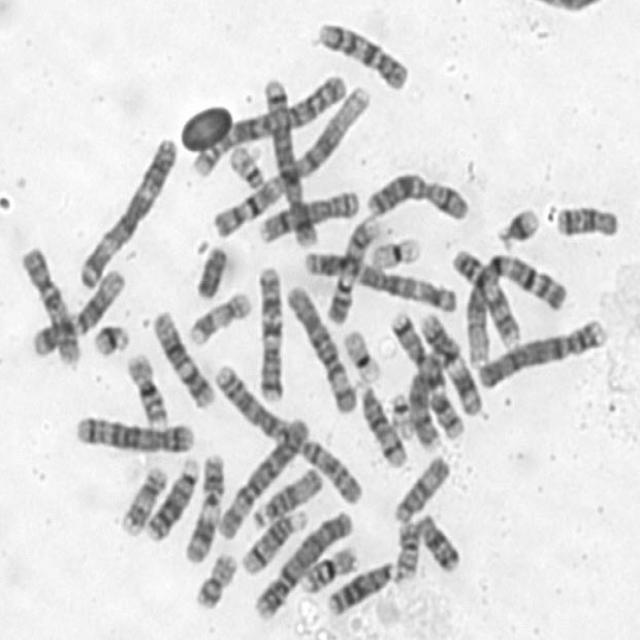A1: (210, 78, 372, 244), (461, 250, 569, 371)
A2: (210, 359, 366, 509), (193, 70, 350, 180)
A3: (73, 135, 179, 292), (300, 245, 458, 315)
B4: (250, 508, 355, 622), (475, 316, 610, 395)
B5: (259, 77, 320, 250), (72, 411, 196, 454)
C10: (17, 243, 82, 369), (315, 18, 411, 90)
C11: (417, 308, 481, 417), (181, 449, 227, 566)
C12: (28, 264, 126, 356), (150, 307, 216, 410)
C6: (214, 413, 308, 541), (284, 281, 357, 415)
C7: (388, 317, 468, 444), (253, 264, 285, 404)
C8: (404, 335, 461, 447), (254, 186, 362, 245)
C9: (449, 245, 522, 347), (323, 213, 383, 325)
D13: (144, 454, 202, 544), (323, 558, 398, 616)
D14: (238, 505, 308, 576), (358, 381, 408, 468)
D15: (249, 464, 323, 529), (389, 452, 452, 525)
E16: (122, 349, 169, 427), (298, 542, 361, 594)
E17: (185, 288, 254, 346), (118, 463, 168, 537)
E18: (413, 510, 461, 574), (552, 199, 620, 240)
F19: (340, 327, 383, 385), (366, 233, 424, 271)
F20: (192, 548, 238, 613), (392, 519, 420, 579)
G21: (492, 203, 542, 249), (90, 319, 131, 358)
G22: (226, 140, 268, 191), (386, 388, 415, 439)
X: (362, 168, 471, 223)
Y: (192, 242, 229, 300)
